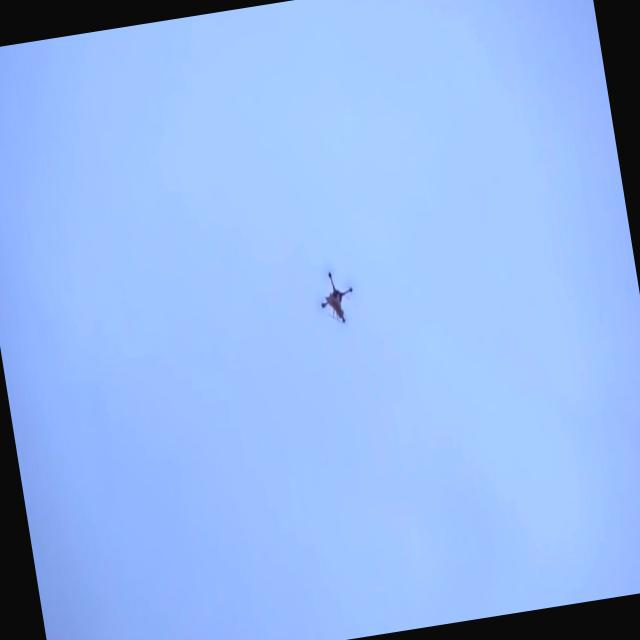drone: (314, 264, 360, 330)
